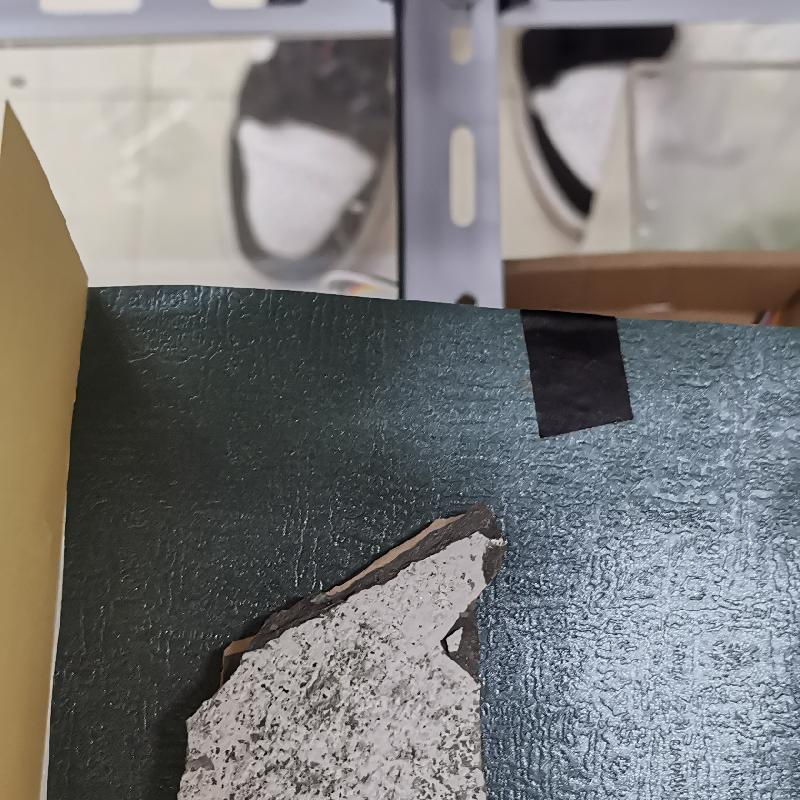tile: (170, 500, 540, 800)
